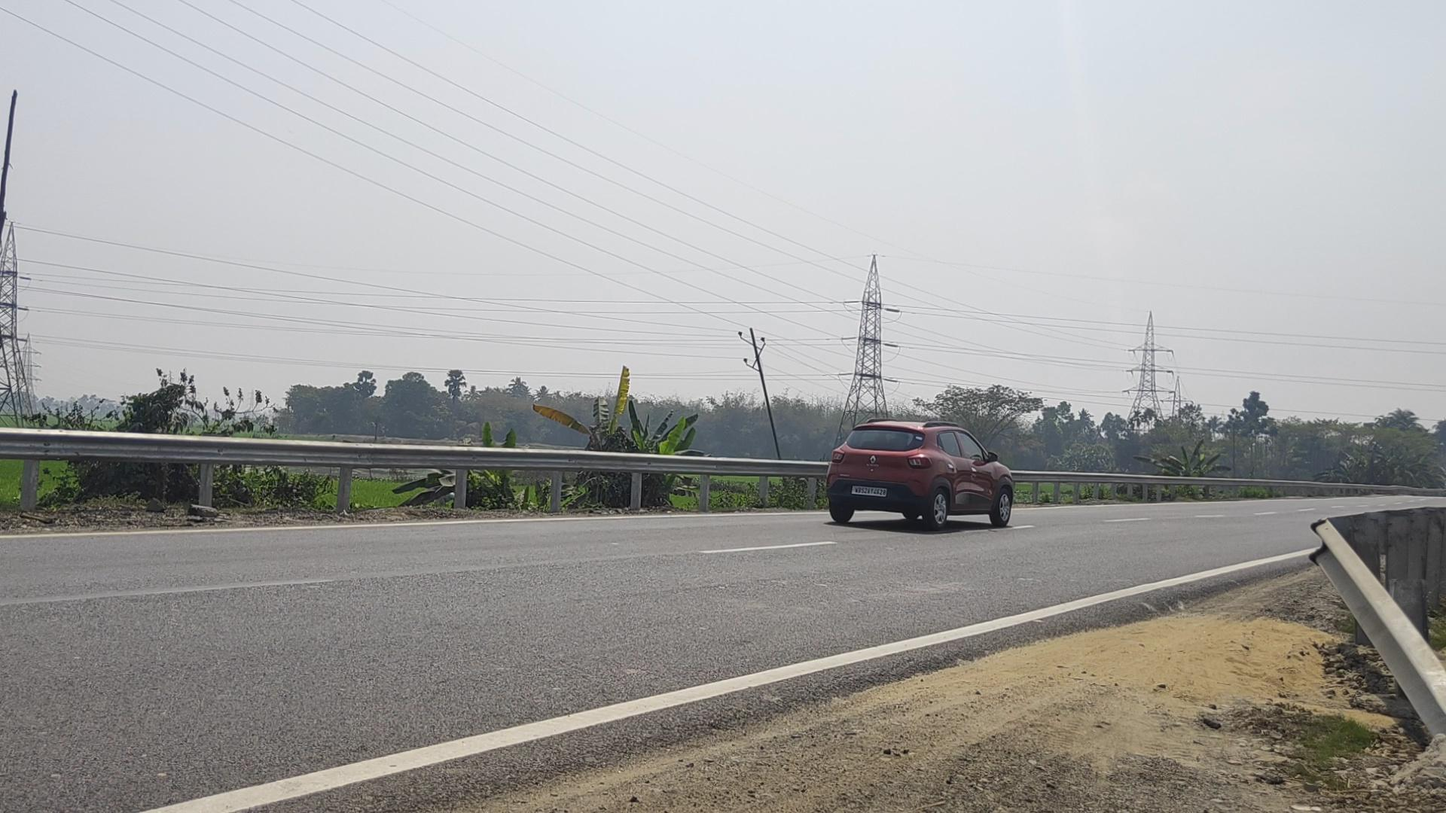car: (826, 419, 1014, 532)
